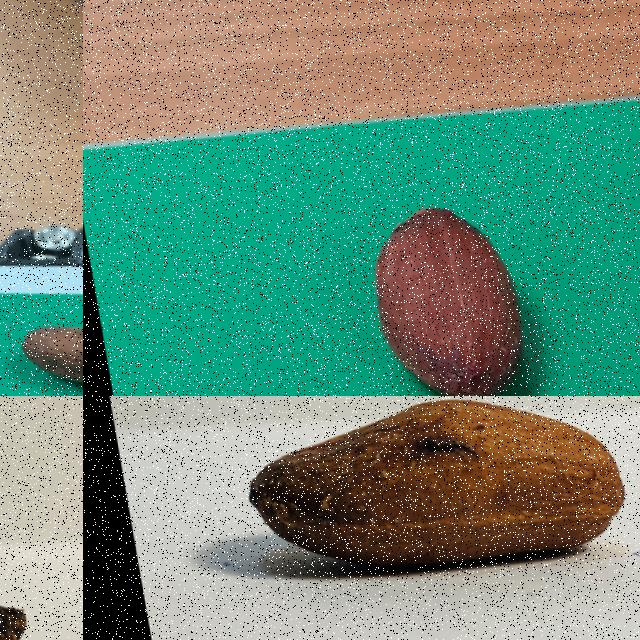Fine_cocoabeans: (153, 396, 639, 636), (291, 178, 593, 395), (0, 297, 82, 395)
Flat_cocoabeans: (0, 554, 66, 639)
